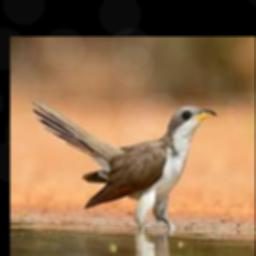Cuckoo: (32, 97, 217, 230)
